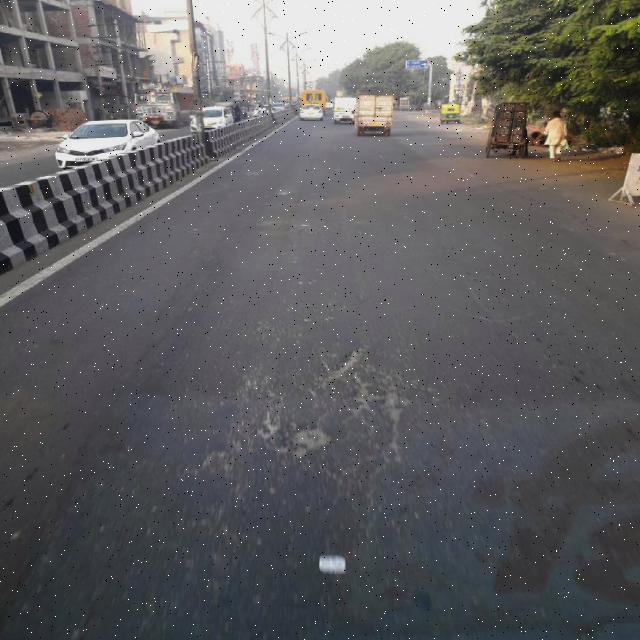D40: (309, 330, 431, 453), (236, 414, 344, 492)
